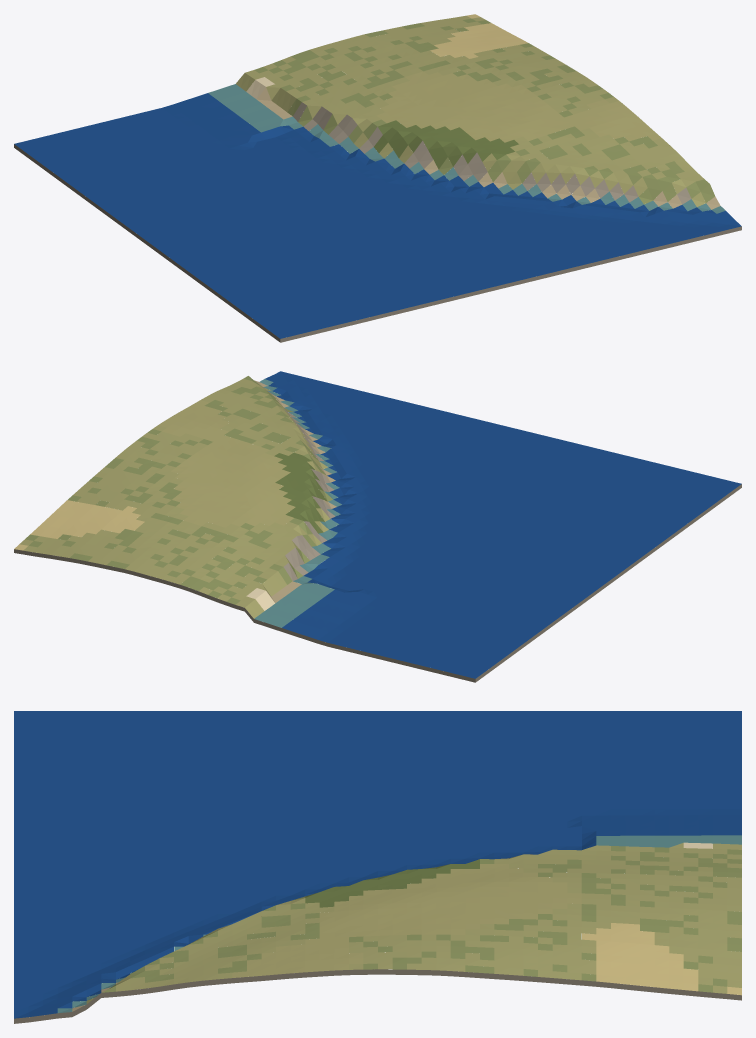
The model's file is parca_-4_-5-uzak.glb.
3 renders of one model, top to bottom at view 1: azimuth 30°, elevation 25°; view 2: azimuth 150°, elevation 25°; view 3: azimuth 270°, elevation 25°, orthographic. The views are drawn at different scales.
Visible parts, largest first — view 1: parca_-4_-5_arazi_uzak; view 2: parca_-4_-5_arazi_uzak; view 3: parca_-4_-5_arazi_uzak.
Part boxes in pixels (bbox=[...]): parca_-4_-5_arazi_uzak: bbox=[14, 14, 741, 342]; parca_-4_-5_arazi_uzak: bbox=[14, 371, 741, 682]; parca_-4_-5_arazi_uzak: bbox=[14, 711, 741, 1023].
Size of the model in its own units: 1000 by 82.65 by 1000.
